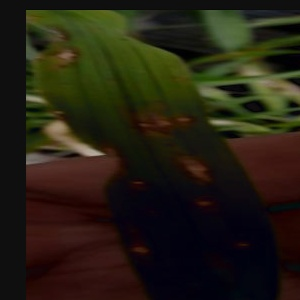Brown_Spot: (171, 144, 218, 189), (126, 107, 175, 141), (52, 40, 88, 74), (122, 234, 153, 263), (191, 193, 226, 214), (229, 233, 259, 256), (177, 102, 197, 134), (122, 173, 152, 192)
